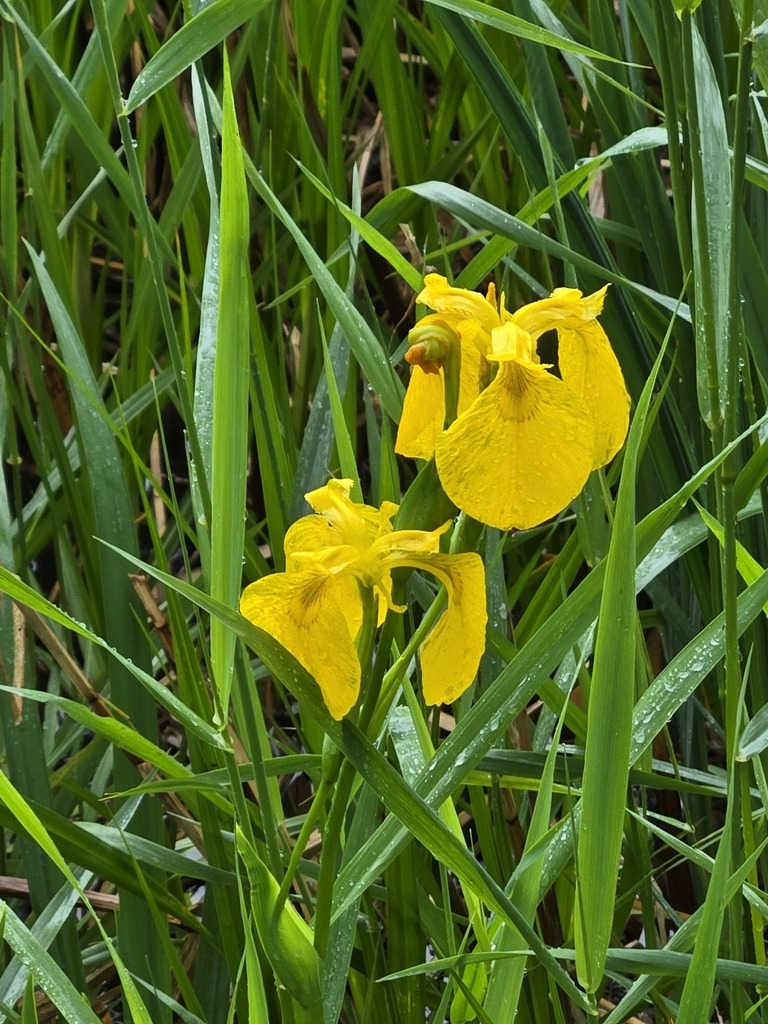yellow flag iris: (237, 270, 633, 722)
